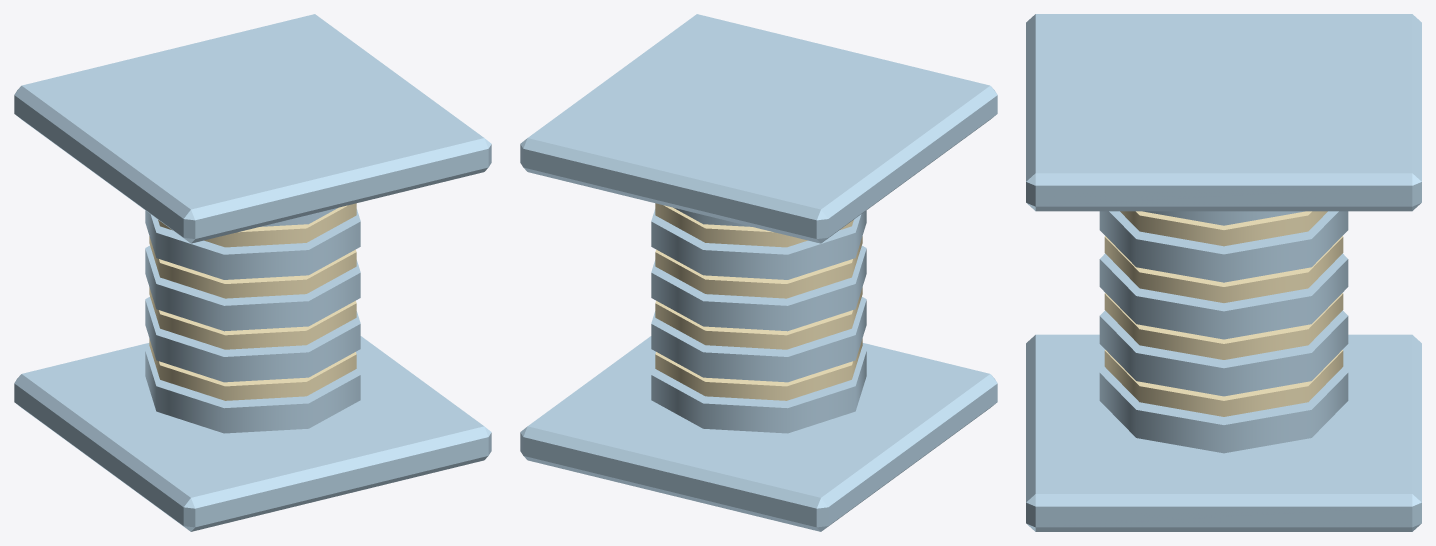
Rendered from R4X_Suspension_LOD1.glb.
3 renders of one model, left to right at view 1: azimuth 30°, elevation 25°; view 2: azimuth 150°, elevation 25°; view 3: azimuth 270°, elevation 25°, orthographic. The views are drawn at different scales.
Visible parts, largest first — view 1: R4X_Suspension_LOD1; view 2: R4X_Suspension_LOD1; view 3: R4X_Suspension_LOD1.
Boxes of the visible parts, left/top/right/bottom form: R4X_Suspension_LOD1: left=14, top=14, right=491, bottom=531; R4X_Suspension_LOD1: left=520, top=14, right=997, bottom=531; R4X_Suspension_LOD1: left=1026, top=14, right=1421, bottom=531.
Size of the model in its own units: 0.52 by 0.52 by 0.52.
